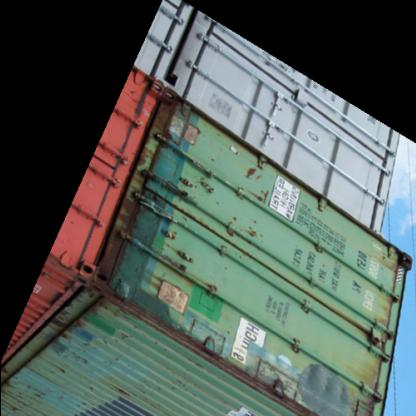Damage: (116, 297, 298, 406), (107, 102, 181, 286)
